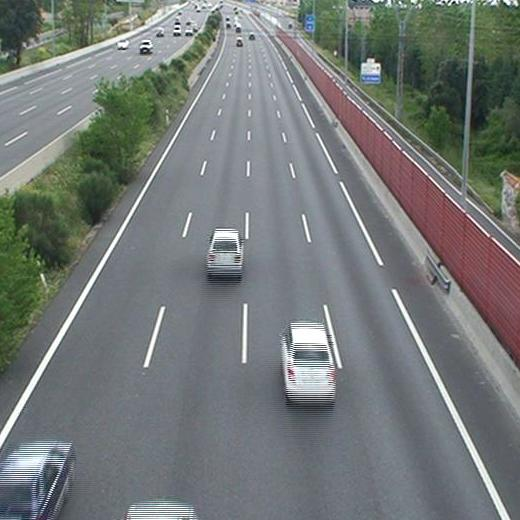car: (1, 443, 72, 520), (282, 324, 335, 400), (207, 230, 242, 274), (235, 37, 242, 48)
